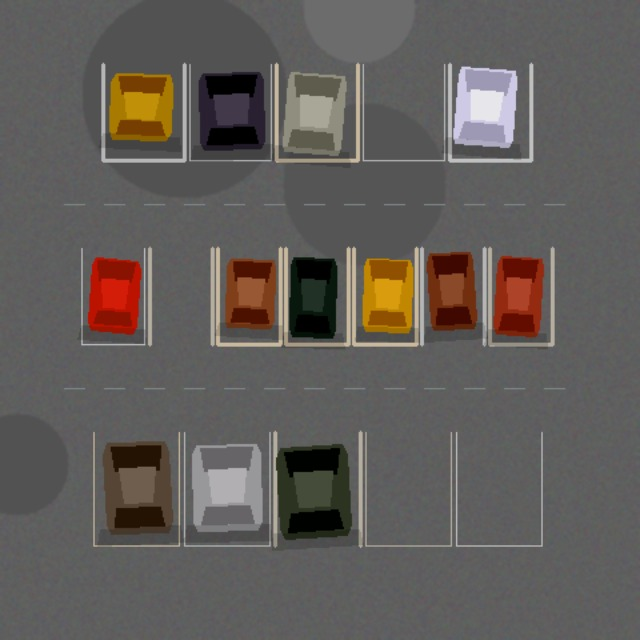space-empty: (365, 432, 451, 545), (456, 432, 541, 545), (363, 64, 444, 160), (149, 248, 212, 344)
space-occupied: (93, 432, 179, 545), (184, 432, 269, 545), (275, 432, 360, 545), (189, 64, 271, 160), (449, 64, 531, 160), (103, 64, 184, 160), (276, 64, 357, 160), (81, 248, 144, 344), (217, 248, 280, 344), (285, 248, 348, 344), (353, 248, 416, 344), (421, 248, 484, 344), (489, 248, 552, 344)
